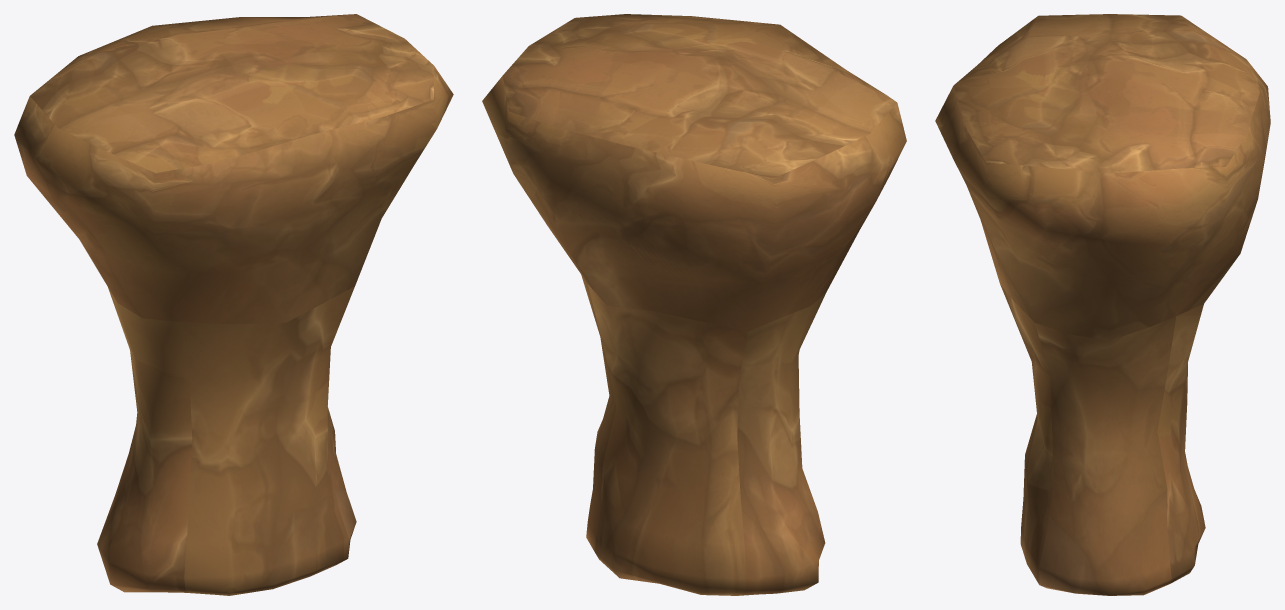
The model's file is Lowest_islands8.fbx.
3 views of the same model, side by side, from view 1: azimuth 30°, elevation 25°; view 2: azimuth 150°, elevation 25°; view 3: azimuth 270°, elevation 25° (orthographic). The views are drawn at different scales.
Parts seen in each view (by area): view 1: Cube.010; view 2: Cube.010; view 3: Cube.010.
Part boxes in pixels (x1,y1,x2,y2): Cube.010: (14, 14, 453, 595); Cube.010: (482, 14, 906, 595); Cube.010: (935, 14, 1270, 595).
Bounding box in the file's own units: 1119 × 1457 × 866.
1 material, 1 textured.
